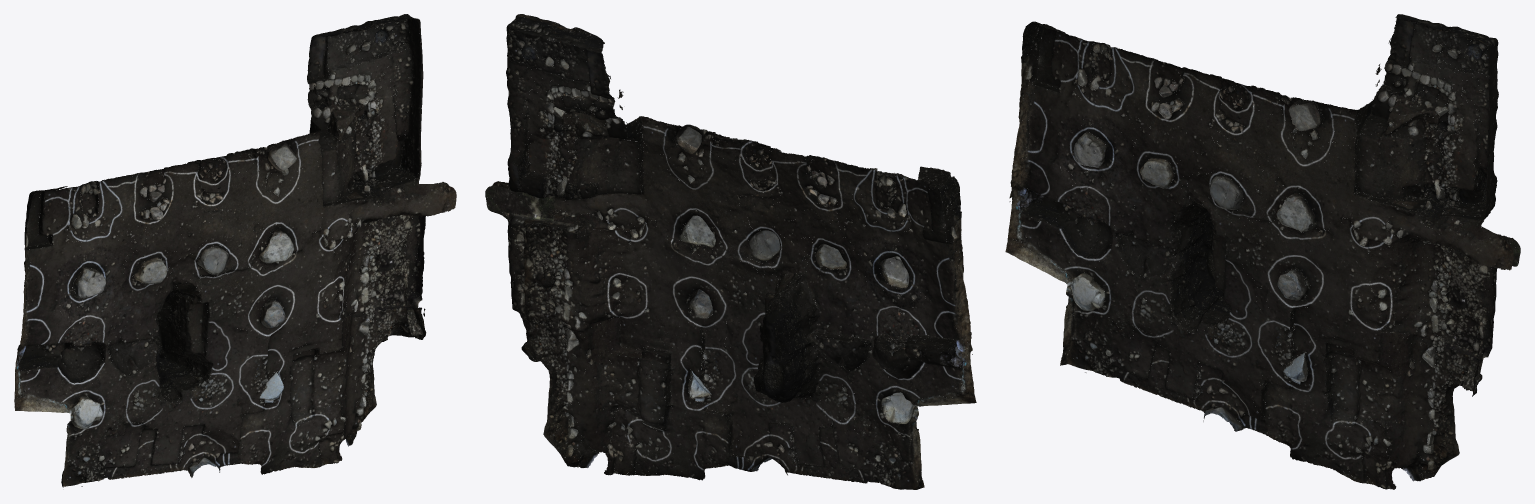
3 views of the same model, side by side, from view 1: azimuth 30°, elevation 25°; view 2: azimuth 150°, elevation 25°; view 3: azimuth 330°, elevation 25° (orthographic). The views are drawn at different scales.
Parts seen in each view (by area): view 1: bake; view 2: bake; view 3: bake.
Boxes of the visible parts, x1,y1,x2,y2 form: bake: [14, 14, 456, 487]; bake: [485, 14, 976, 489]; bake: [1005, 14, 1520, 489].
Size of the model in its own units: 14.55 by 13.07 by 1.86.
1 material, 1 textured.
